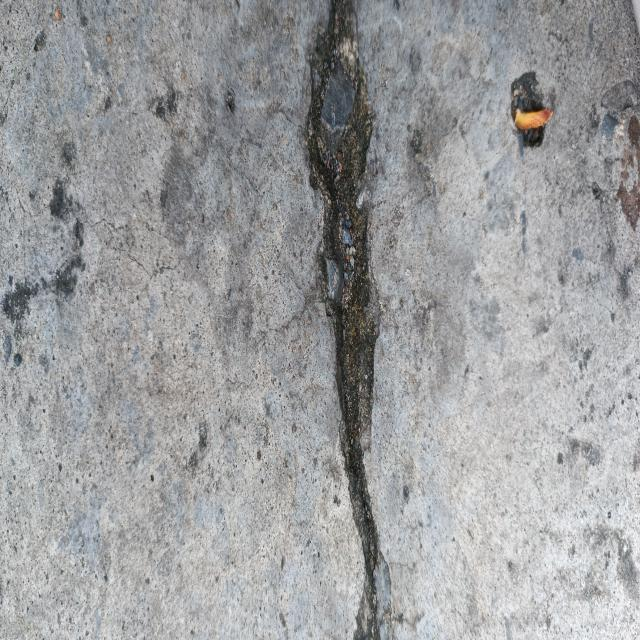vertical cracks: (307, 5, 375, 611)
